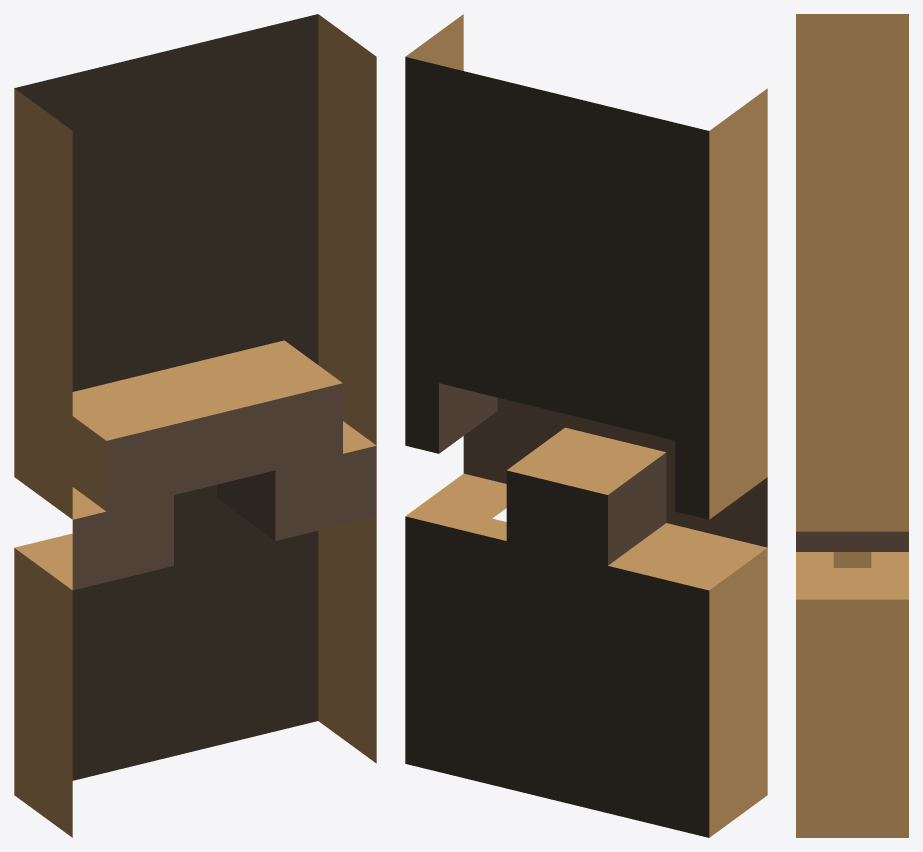
File: Gang3.fbx
The picture shows the model from 3 angles, left to right: view 1: azimuth 30°, elevation 25°; view 2: azimuth 150°, elevation 25°; view 3: azimuth 270°, elevation 25°; orthographic projection. The views are drawn at different scales.
Parts seen in each view (by area): view 1: Plane.000; view 2: Plane.000; view 3: Plane.000.
Boxes of the visible parts, box(x1,y1,x2,y2) form: Plane.000: box(14, 14, 376, 837); Plane.000: box(405, 14, 767, 837); Plane.000: box(796, 14, 908, 837).
Bounding box in the file's own units: 1800 × 4000 × 600.
